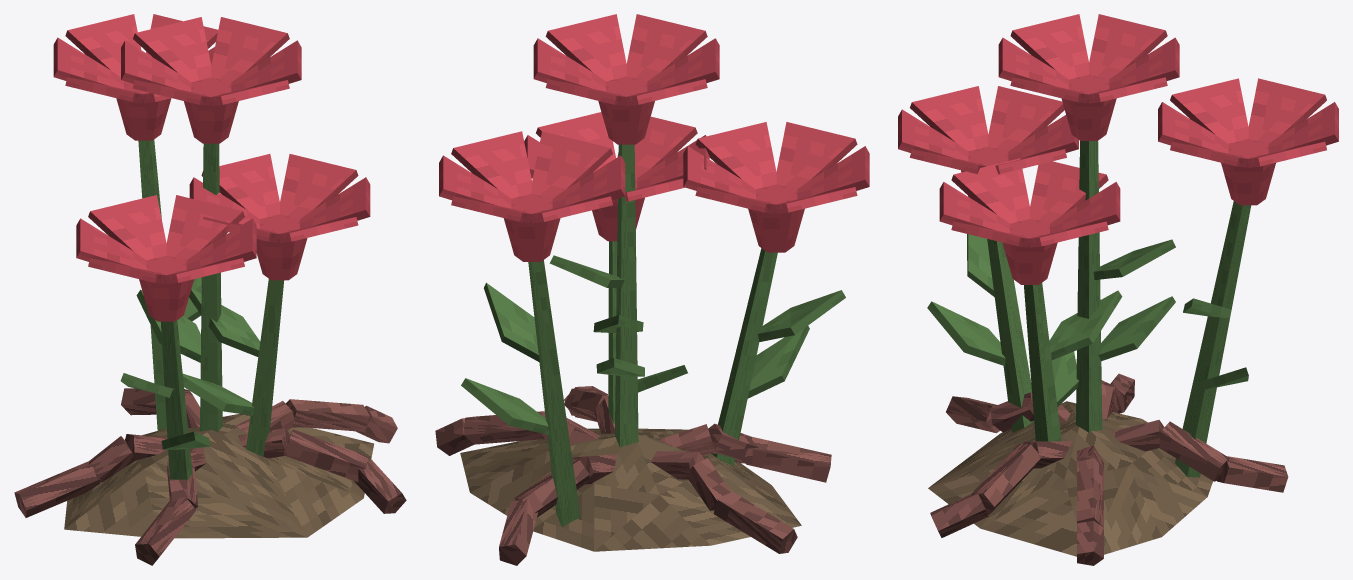
The model's file is f_mutpoppy.glb.
3 renders of one model, left to right at view 1: azimuth 30°, elevation 25°; view 2: azimuth 150°, elevation 25°; view 3: azimuth 270°, elevation 25°, orthographic. The views are drawn at different scales.
Visible parts, largest first — view 1: block_flared-petal (×21), block_stirred-soil, block_narrow-flower-tube (×4), block_exposed-twisted-root-3 (×5), block_exposed-twisted-root-2 (×4), block_pointed-leaf (×5), block_stem-0, block_stem-3, block_stem-1, block_exposed-twisted-root-1 (×3), block_stem-2; view 2: block_flared-petal (×22), block_stirred-soil, block_pointed-leaf (×8), block_narrow-flower-tube (×4), block_exposed-twisted-root-3 (×4), block_exposed-twisted-root-2 (×5), block_stem-2, block_stem-0, block_stem-1, block_exposed-twisted-root-1 (×3), block_stem-3; view 3: block_flared-petal (×24), block_stirred-soil, block_pointed-leaf (×8), block_narrow-flower-tube (×4), block_exposed-twisted-root-2 (×4), block_exposed-twisted-root-3 (×4), block_stem-2, block_stem-0, block_stem-1, block_stem-3, block_exposed-twisted-root-1 (×2).
Part boxes in pixels (x1,y1,x2,y2): block_flared-petal (×21): (53,14,370,284); block_stirred-soil: (64,414,373,538); block_narrow-flower-tube (×4): (116,77,307,321); block_exposed-twisted-root-3 (×5): (14,388,406,565); block_exposed-twisted-root-2 (×4): (88,399,369,508); block_pointed-leaf (×5): (120,288,260,449); block_stem-0: (200,143,222,431); block_stem-3: (246,279,284,456); block_stem-1: (161,320,192,480); block_exposed-twisted-root-1 (×3): (125,401,295,461); block_stem-2: (138,140,166,430); block_flared-petal (×22): (439,14,869,223); block_stirred-soil: (460,428,801,551); block_pointed-leaf (×8): (461,255,845,435); block_narrow-flower-tube (×4): (503,76,804,261); block_exposed-twisted-root-3 (×4): (435,418,831,565); block_exposed-twisted-root-2 (×5): (463,388,758,517); block_stem-2: (528,260,580,526); block_stem-0: (615,144,638,447); block_stem-1: (711,248,777,465); block_exposed-twisted-root-1 (×3): (573,424,714,484); block_stem-3: (608,241,617,423); block_flared-petal (×24): (898,14,1338,247); block_stirred-soil: (928,401,1212,556); block_pointed-leaf (×8): (927,234,1248,406); block_narrow-flower-tube (×4): (961,75,1275,284); block_exposed-twisted-root-2 (×4): (971,392,1229,527); block_exposed-twisted-root-3 (×4): (930,396,1288,565); block_stem-2: (1175,201,1251,477); block_stem-0: (1076,141,1102,432); block_stem-1: (987,239,1033,432); block_stem-3: (1024,283,1061,441); block_exposed-twisted-root-1 (×2): (1023,420,1164,468).
Bounding box in the file's own units: 0.5634 × 0.6392 × 0.5924.
Materials: 1 (1 with a texture image).
